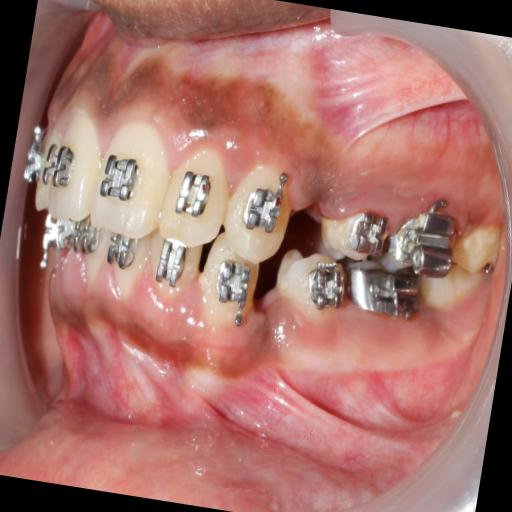correct_brace: (272, 250, 348, 320), (316, 201, 392, 266), (239, 167, 290, 237), (96, 141, 143, 215), (172, 164, 216, 226), (302, 259, 344, 315)
incorrect_brace: (157, 144, 234, 248), (345, 210, 388, 261)
